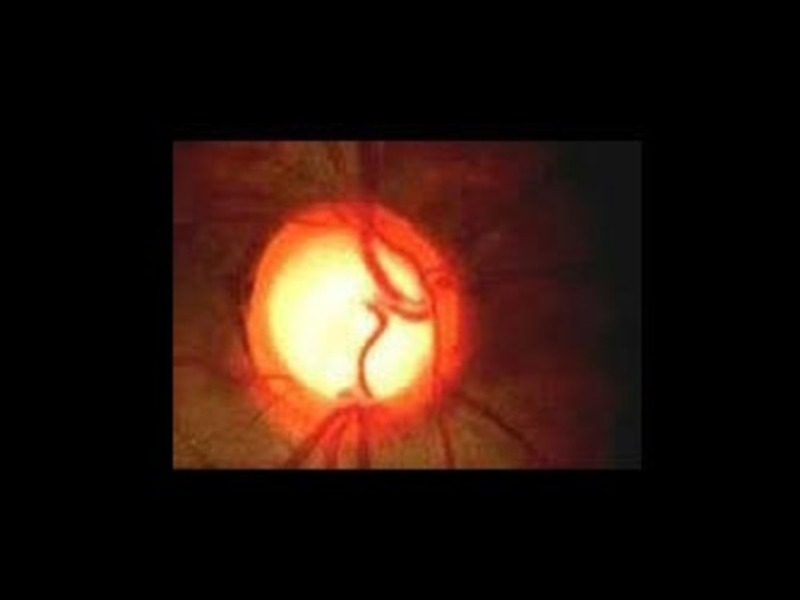Optic Cup: (271, 239, 437, 400)
Optic Disc: (242, 199, 472, 452)
